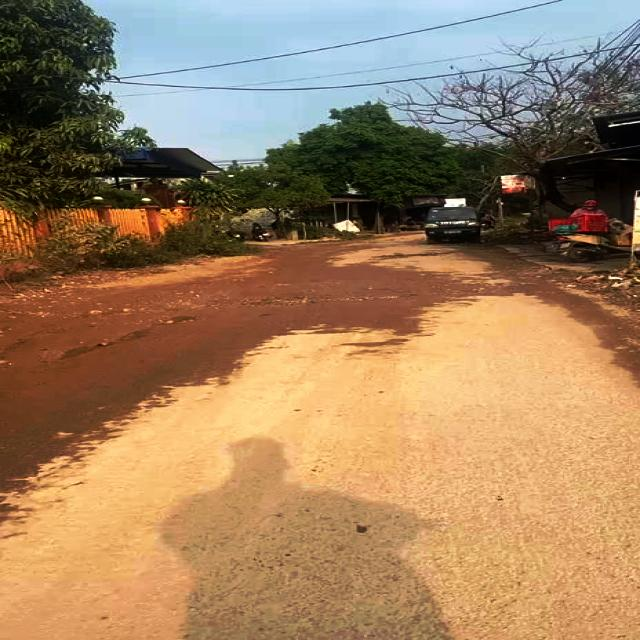pothole: (240, 292, 401, 307)
